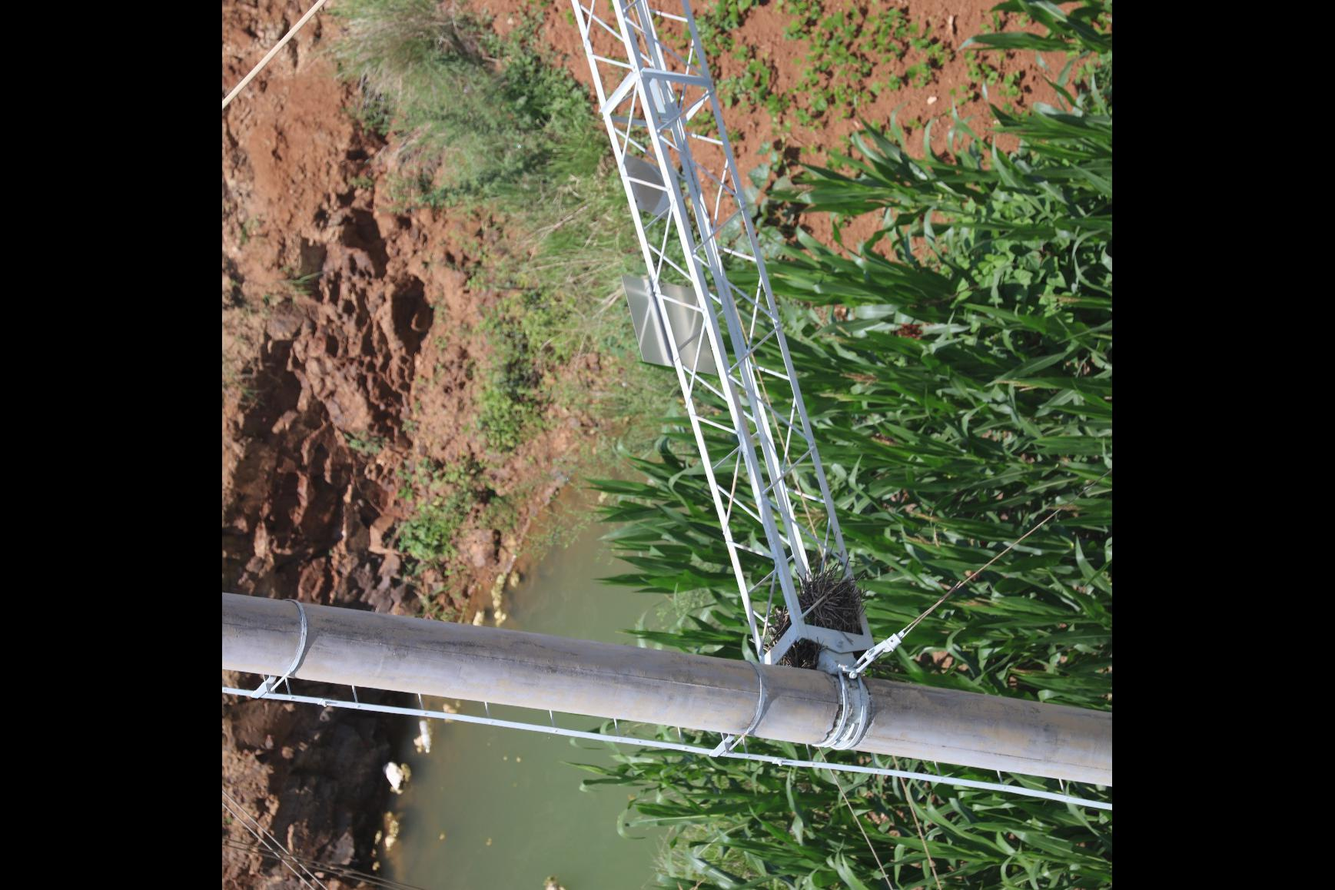nest: (769, 566, 865, 669)
